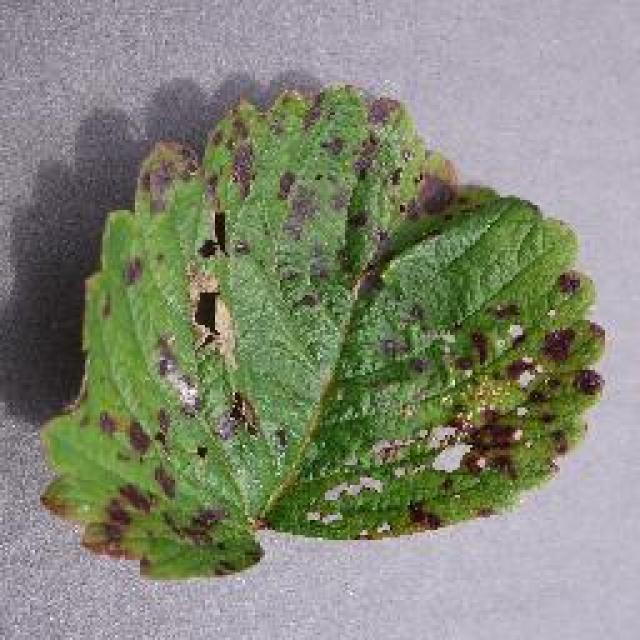Strawberry leaf scorch: (157, 182, 495, 492)
